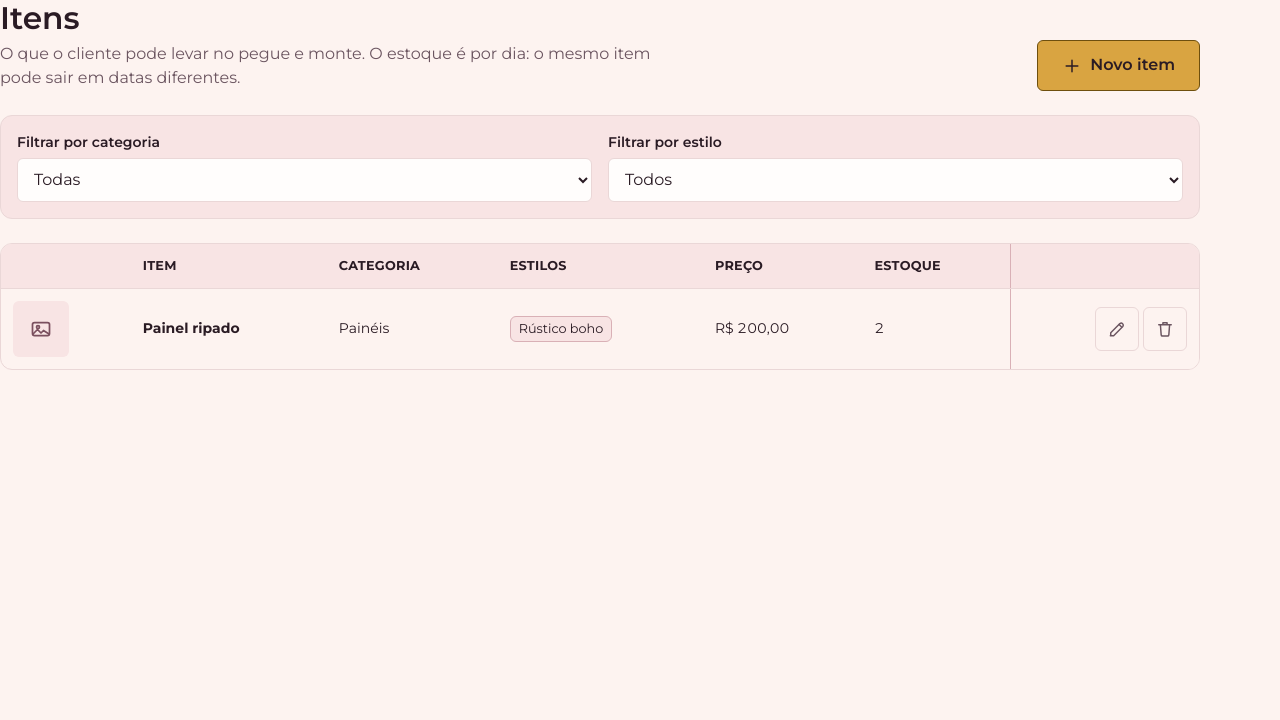
Test case: ItemsPage › diz quando o item foi desativado em vez de excluído
Step 1. Click the button named "Excluir Painel ripado" → (1165, 329), box [1143, 307, 1187, 351]
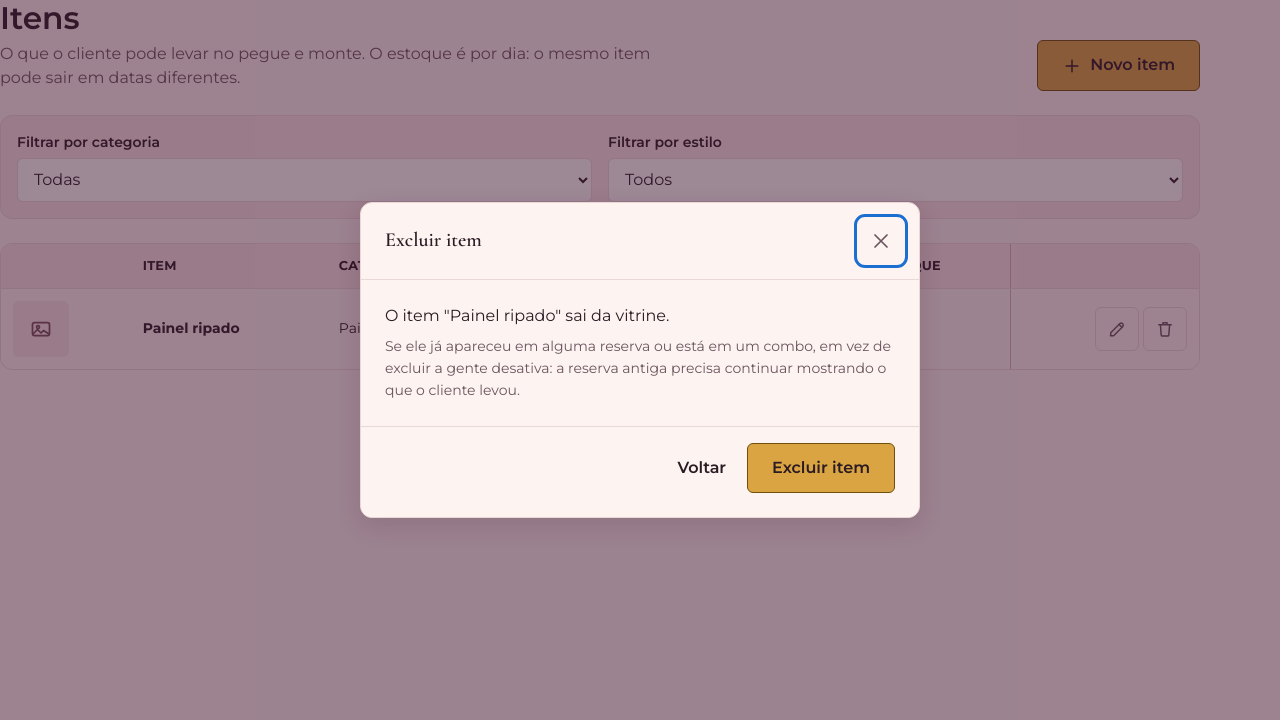
Step 2. Click the button "Excluir item" → (821, 468), box [747, 442, 895, 493]
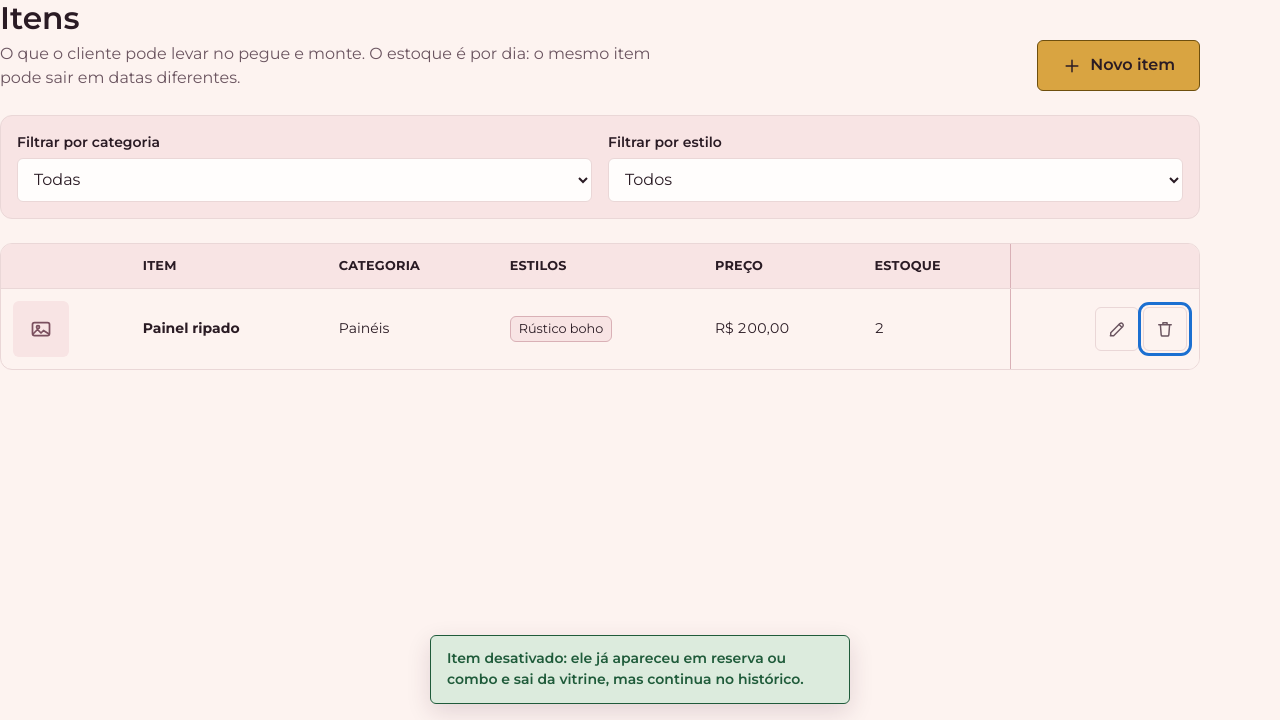
expect the message shows "Item desativado": met, box [447, 649, 804, 688]
